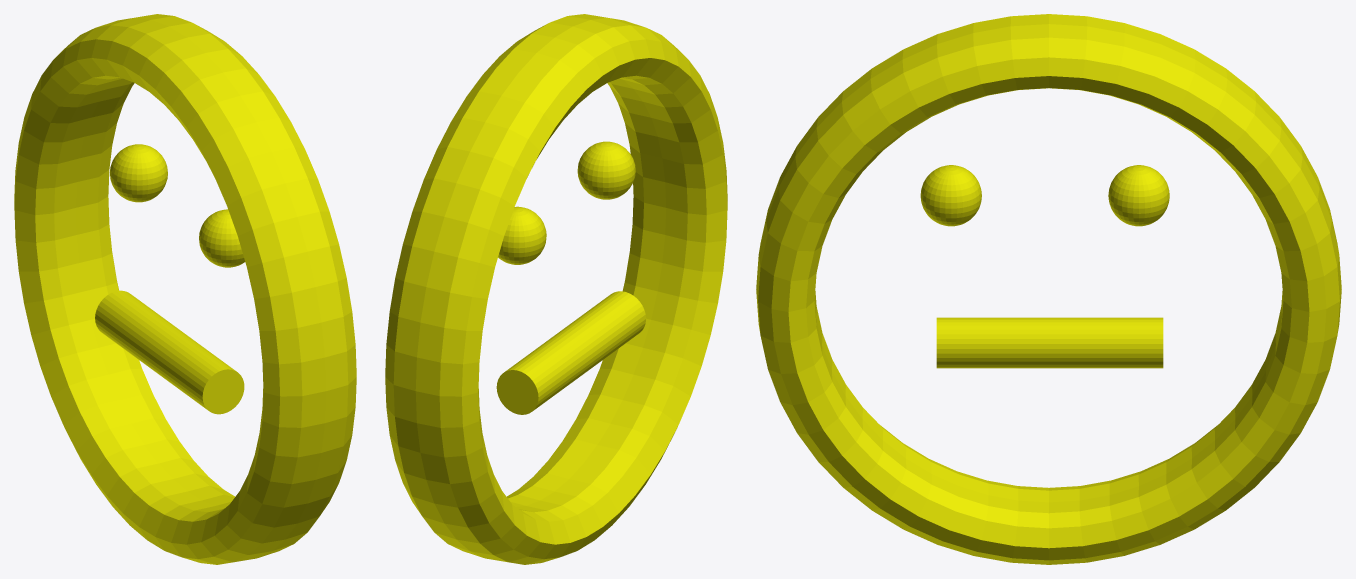
Rendered from smileyYellow.dae.
3 views of the same model, side by side, from view 1: azimuth 30°, elevation 25°; view 2: azimuth 150°, elevation 25°; view 3: azimuth 270°, elevation 25° (orthographic). The views are drawn at different scales.
Parts seen in each view (by area): view 1: Torus_001, Cylinder, Sphere, Sphere_001; view 2: Torus_001, Cylinder, Sphere_001, Sphere; view 3: Torus_001, Cylinder, Sphere_001, Sphere.
Boxes of the visible parts, bbox=[...] form: Torus_001: bbox=[14, 14, 356, 564]; Cylinder: bbox=[95, 290, 244, 414]; Sphere: bbox=[110, 144, 167, 202]; Sphere_001: bbox=[199, 209, 244, 267]; Torus_001: bbox=[385, 14, 727, 564]; Cylinder: bbox=[496, 291, 645, 414]; Sphere_001: bbox=[577, 141, 635, 199]; Sphere: bbox=[498, 206, 546, 264]; Torus_001: bbox=[756, 14, 1341, 564]; Cylinder: bbox=[936, 317, 1163, 368]; Sphere_001: bbox=[920, 165, 981, 226]; Sphere: bbox=[1108, 165, 1169, 226].
Size of the model in its own units: 0.548 by 2.86 by 2.86.
